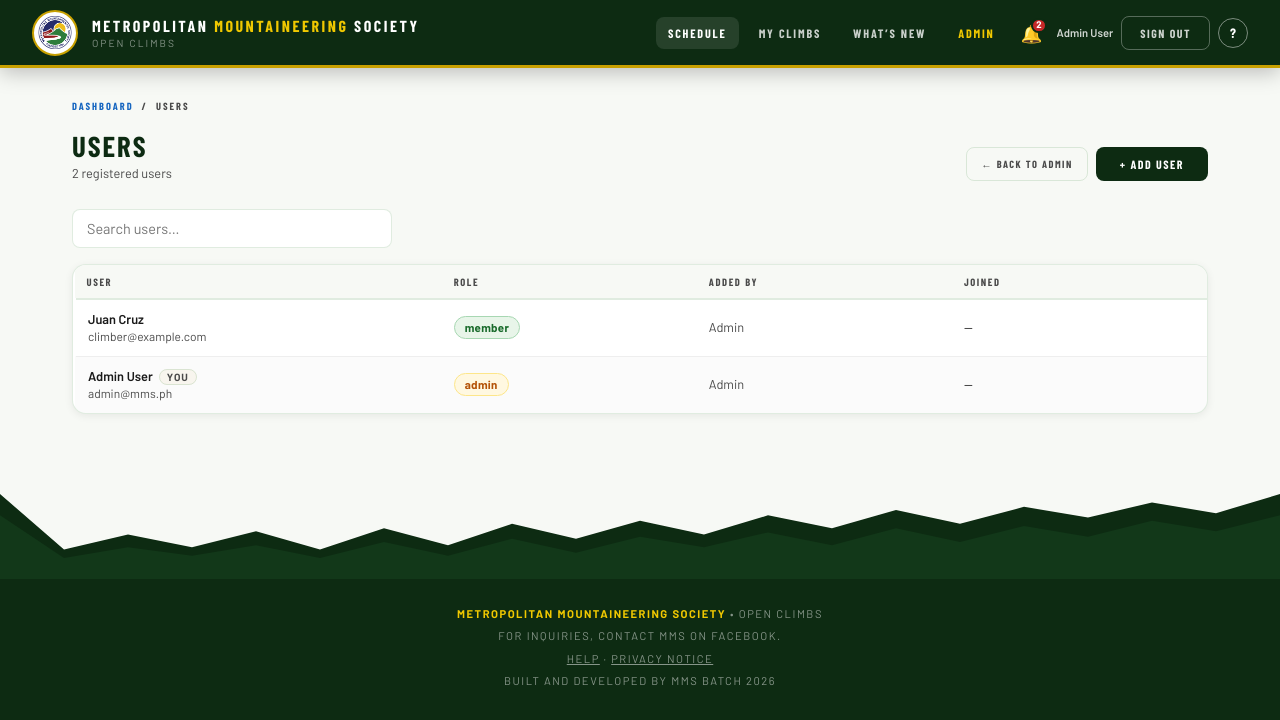
Test: Admin UsersManage › prevents an admin from deleting their own account
The width and height of the screenshot is (1280, 720).
Expected: the link "Admin User" is shown, x1=1057 y1=26 x2=1113 y2=39
Click the button "Admin User" at (142, 376), box x1=88 y1=367 x2=197 y2=385
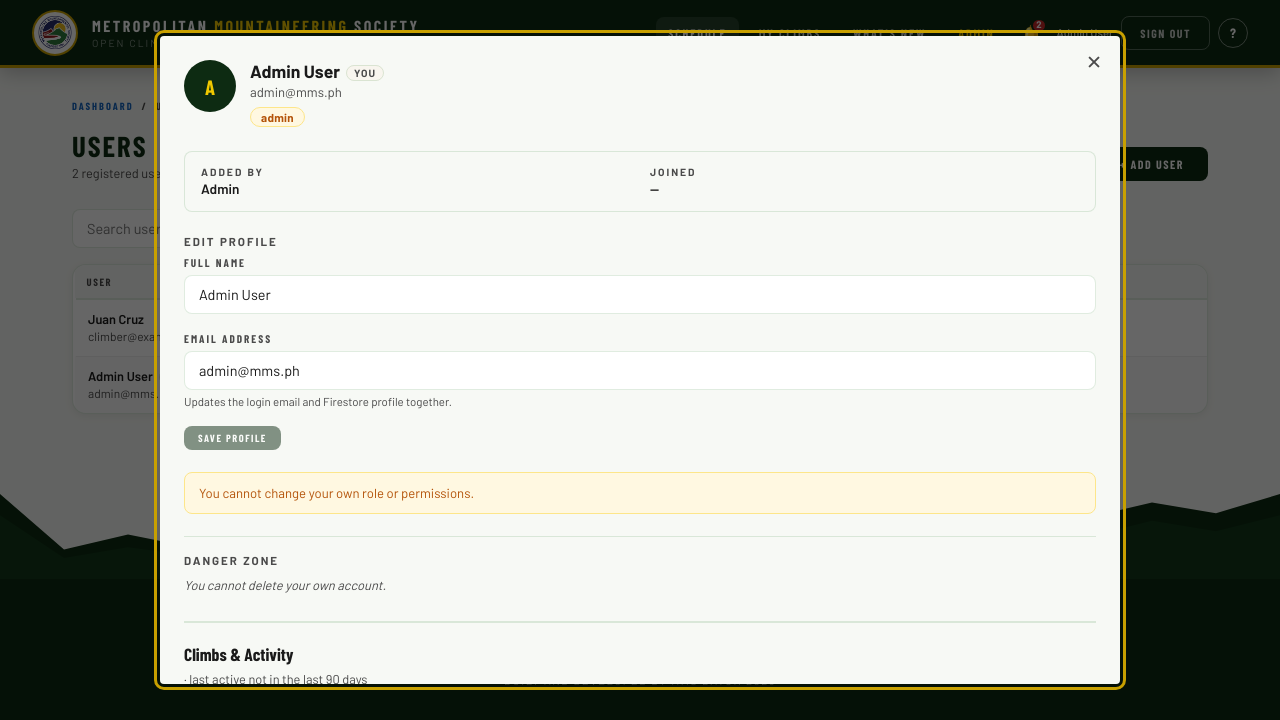
Now the text "You cannot delete your own account." is shown, box x1=184 y1=577 x2=386 y2=593
